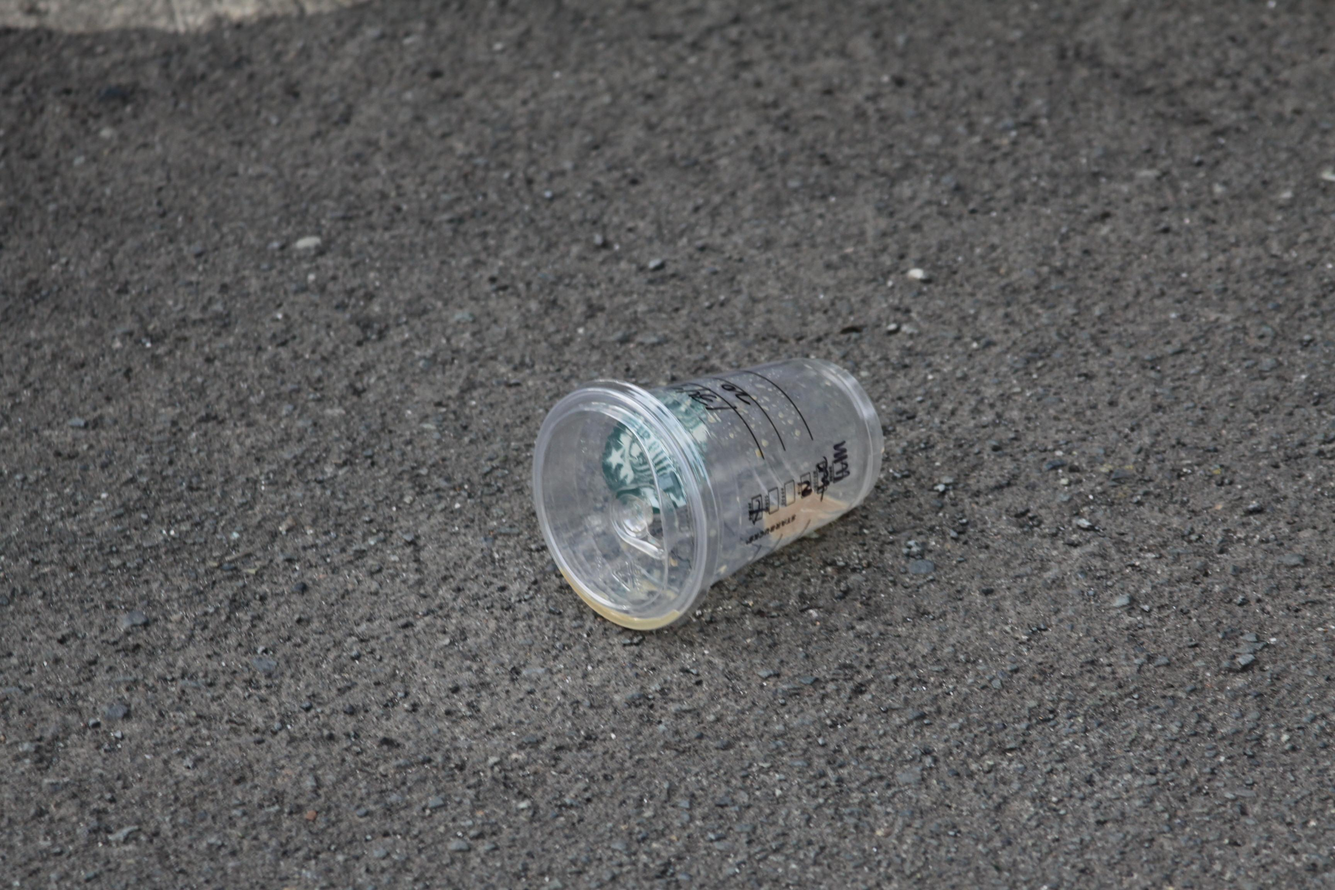Plastic: (527, 350, 888, 635)
